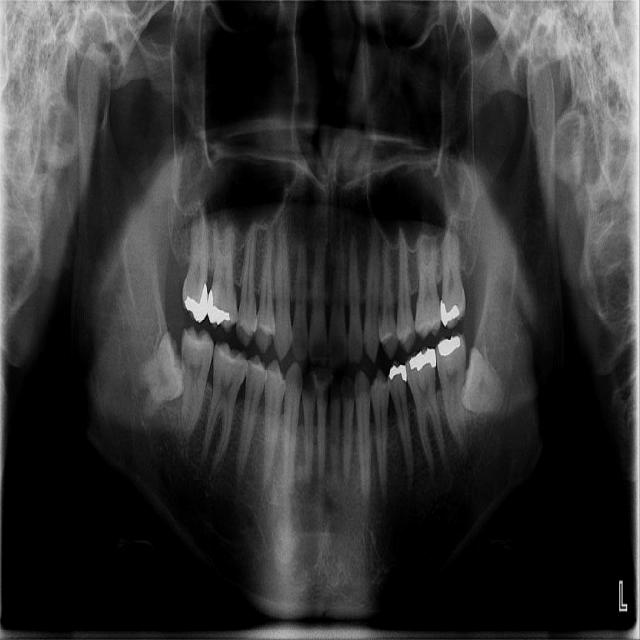Filling: (436, 330, 467, 382), (406, 344, 436, 397), (183, 283, 209, 324), (205, 288, 231, 326), (387, 359, 408, 403), (401, 313, 446, 328), (439, 300, 461, 313)
impacted tooth: (129, 332, 187, 432), (462, 347, 517, 415)
